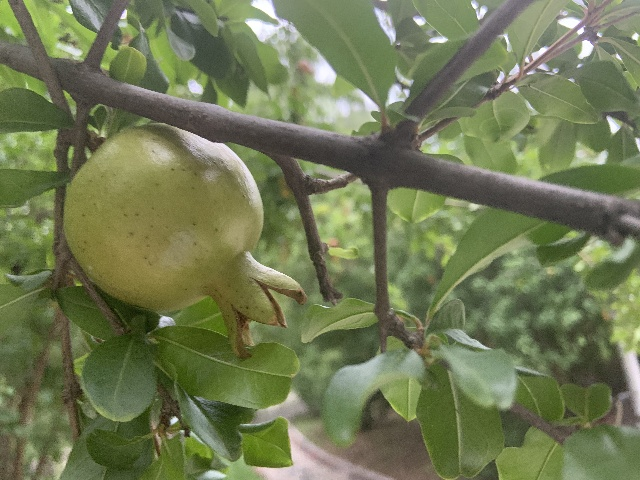mid-growth: (63, 123, 305, 359)
